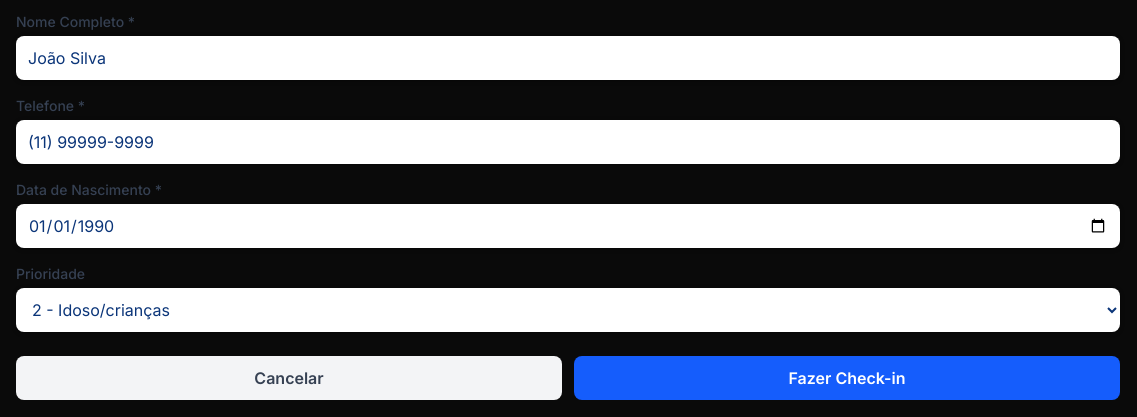
NewPatientCheckInForm › disables form during submission
This screenshot has width=1137, height=417.
Step 1. Click the button "Fazer Check-in" → (847,378), box [574,356,1120,400]
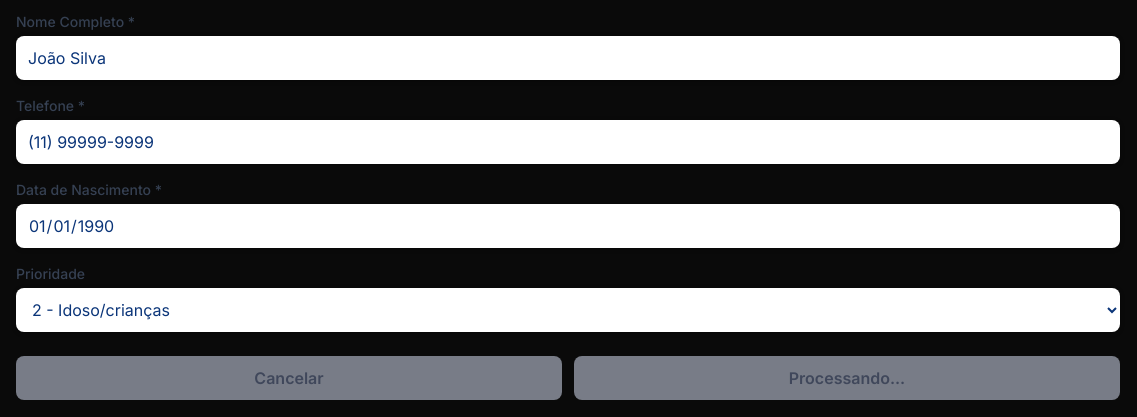
Expected: the field showing "João Silva" below "Nome Completo *" is disabled, [16,36,1120,80]
Now the button "Processando..." is shown, box [574,356,1120,400]
Now the button "Cancelar" is disabled, box [16,356,562,400]
